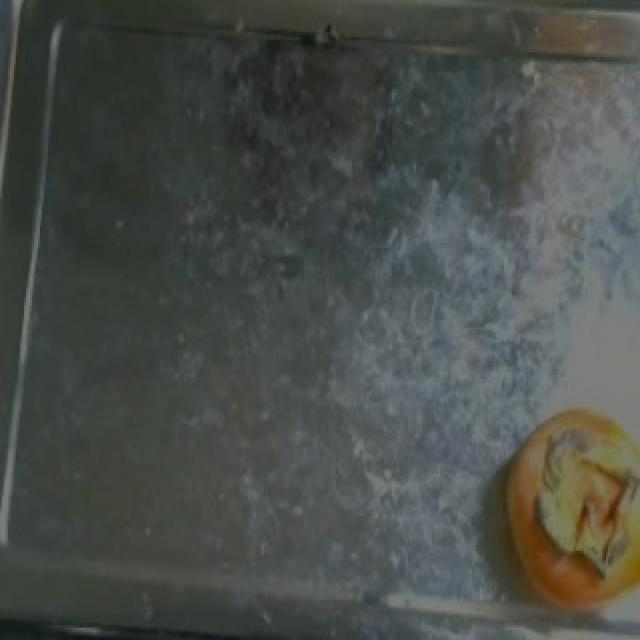Fruit: (486, 390, 640, 632)
